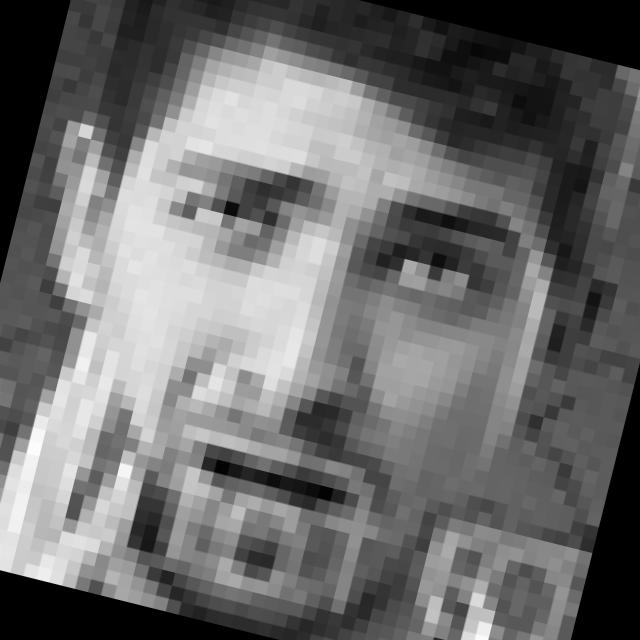fear: (73, 134, 526, 585)
